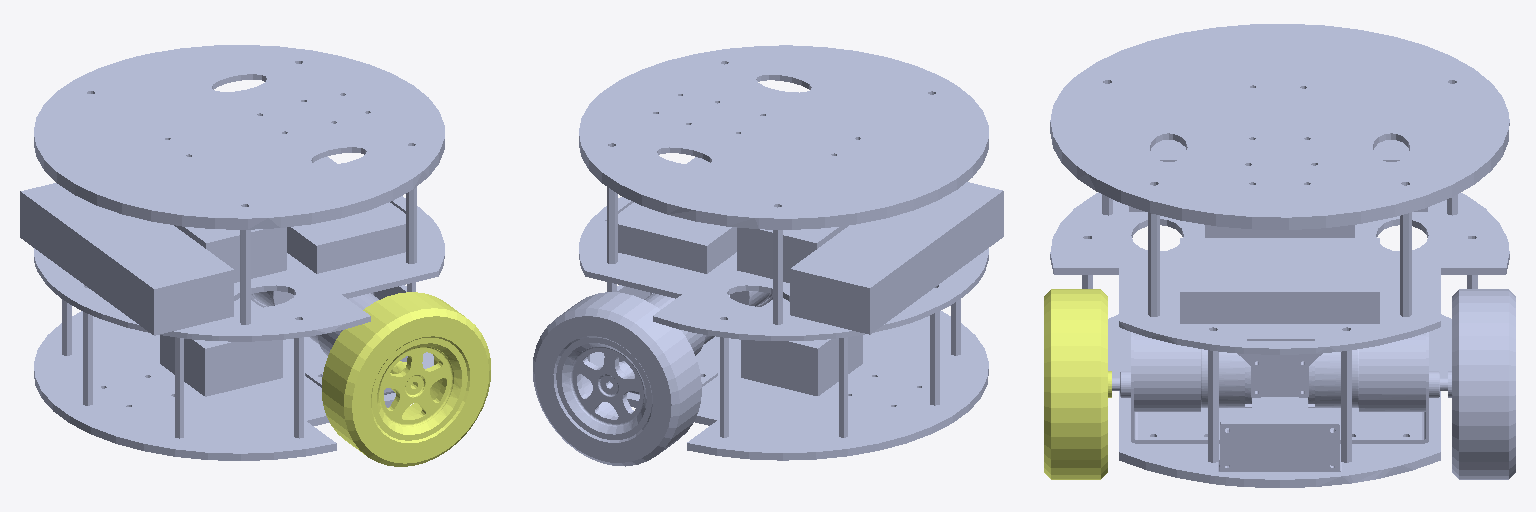
robot.urdf — KalHozMobile:
<?xml version="1.0" encoding="utf-8"?>
<!-- This URDF was automatically created by SolidWorks to URDF Exporter! Originally created by [author] ([email redacted]) 
     Commit Version: 1.6.0-4-g7f85cfe  Build Version: 1.6.7995.38578
     For more information, please see http://wiki.ros.org/sw_urdf_exporter -->
<robot
  name="KalHozMobile">
  <link
    name="base_link">
    <inertial>
      <origin
        xyz="-0.00859988347059087 -0.000134002469390632 0.0651144707354215"
        rpy="0 0 0" />
      <mass
        value="5.47335959213036" />
      <inertia
        ixx="0.00765025145241159"
        ixy="-2.52690429370982E-07"
        ixz="-1.51493490794792E-05"
        iyy="0.00721459652833044"
        iyz="-8.01039273224075E-08"
        izz="0.0145073067280245" />
    </inertial>
    <visual>
      <origin
        xyz="0 0 0"
        rpy="0 0 0" />
      <geometry>
        <mesh
          filename="package://KalHozMobile/meshes/base_link.STL" />
      </geometry>
      <material
        name="">
        <color
          rgba="0.792156862745098 0.819607843137255 0.933333333333333 1" />
      </material>
    </visual>
    <collision>
      <origin
        xyz="0 0 0"
        rpy="0 0 0" />
      <geometry>
        <mesh
          filename="package://KalHozMobile/meshes/base_link.STL" />
      </geometry>
    </collision>
  </link>
  <link
    name="left_wheel">
    <inertial>
      <origin
        xyz="1.6209E-12 -0.0074712 7.9354E-12"
        rpy="0 0 0" />
      <mass
        value="0.85535" />
      <inertia
        ixx="0.00049626"
        ixy="-1.5263E-15"
        ixz="-3.4023E-10"
        iyy="0.00089585"
        iyz="-5.7354E-16"
        izz="0.00049626" />
    </inertial>
    <visual>
      <origin
        xyz="0 0 0"
        rpy="0 0 0" />
      <geometry>
        <mesh
          filename="package://KalHozMobile/meshes/left_wheel.STL" />
      </geometry>
      <material
        name="">
        <color
          rgba="0.79216 0.81961 0.93333 1" />
      </material>
    </visual>
    <collision>
      <origin
        xyz="0 0 0"
        rpy="0 0 0" />
      <geometry>
        <mesh
          filename="package://KalHozMobile/meshes/left_wheel.STL" />
      </geometry>
    </collision>
  </link>
  <joint
    name="left_joint"
    type="revolute">
    <origin
      xyz="0.0425000000000001 0.0965430452616969 0.0230999999999996"
      rpy="0 0 0" />
    <parent
      link="base_link" />
    <child
      link="left_wheel" />
    <axis
      xyz="0 -1 0" />
    <limit
      lower="0"
      upper="0"
      effort="0"
      velocity="0" />
  </joint>
  <link
    name="right_wheel">
    <inertial>
      <origin
        xyz="-1.6206E-12 0.0074712 7.9353E-12"
        rpy="0 0 0" />
      <mass
        value="0.85535" />
      <inertia
        ixx="0.00049626"
        ixy="-1.5227E-15"
        ixz="3.4023E-10"
        iyy="0.00089585"
        iyz="5.7064E-16"
        izz="0.00049626" />
    </inertial>
    <visual>
      <origin
        xyz="0 0 0"
        rpy="0 0 0" />
      <geometry>
        <mesh
          filename="package://KalHozMobile/meshes/right_wheel.STL" />
      </geometry>
      <material
        name="">
        <color
          rgba="0.95294 1 0.52941 1" />
      </material>
    </visual>
    <collision>
      <origin
        xyz="0 0 0"
        rpy="0 0 0" />
      <geometry>
        <mesh
          filename="package://KalHozMobile/meshes/right_wheel.STL" />
      </geometry>
    </collision>
  </link>
  <joint
    name="right_joint"
    type="revolute">
    <origin
      xyz="0.0424999999999988 -0.0965430452616977 0.0231000000000003"
      rpy="0 0 0" />
    <parent
      link="base_link" />
    <child
      link="right_wheel" />
    <axis
      xyz="0 1 0" />
    <limit
      lower="0"
      upper="0"
      effort="0"
      velocity="0" />
  </joint>
  <link
    name="imu">
    <inertial>
      <origin
        xyz="0 -4.57498448847016E-12 0.00150000000000003"
        rpy="0 0 0" />
      <mass
        value="0.00702000000000001" />
      <inertia
        ixx="1.3689E-07"
        ixy="7.12667033401571E-22"
        ixz="5.55089940782906E-24"
        iyy="2.39265E-07"
        iyz="4.64851093218701E-22"
        izz="3.65625E-07" />
    </inertial>
    <visual>
      <origin
        xyz="0 0 0"
        rpy="0 0 0" />
      <geometry>
        <mesh
          filename="package://KalHozMobile/meshes/imu.STL" />
      </geometry>
      <material
        name="">
        <color
          rgba="0.792156862745098 0.819607843137255 0.933333333333333 1" />
      </material>
    </visual>
    <collision>
      <origin
        xyz="0 0 0"
        rpy="0 0 0" />
      <geometry>
        <mesh
          filename="package://KalHozMobile/meshes/imu.STL" />
      </geometry>
    </collision>
  </link>
  <joint
    name="imu_j"
    type="fixed">
    <origin
      xyz="-0.00324837868812255 0.000128905720000022 0.124"
      rpy="0 0 0" />
    <parent
      link="base_link" />
    <child
      link="imu" />
    <axis
      xyz="0 0 0" />
  </joint>
  <link
    name="lidar">
    <inertial>
      <origin
        xyz="-0.011696 0.0010152 -0.02425"
        rpy="0 0 0" />
      <mass
        value="0.094104" />
      <inertia
        ixx="2.7909E-05"
        ixy="-5.2518E-08"
        ixz="3.3534E-07"
        iyy="4.4353E-05"
        iyz="-2.4873E-08"
        izz="6.9475E-05" />
    </inertial>
    <visual>
      <origin
        xyz="0 0 0"
        rpy="0 0 0" />
      <geometry>
        <mesh
          filename="package://KalHozMobile/meshes/lidar.STL" />
      </geometry>
      <material
        name="">
        <color
          rgba="1 1 1 1" />
      </material>
    </visual>
    <collision>
      <origin
        xyz="0 0 0"
        rpy="0 0 0" />
      <geometry>
        <mesh
          filename="package://KalHozMobile/meshes/lidar.STL" />
      </geometry>
    </collision>
  </link>
  <joint
    name="lidar_j"
    type="fixed">
    <origin
      xyz="0.015 -0.00250000000000011 0.18138"
      rpy="0 0 0" />
    <parent
      link="base_link" />
    <child
      link="lidar" />
    <axis
      xyz="0 0 0" />
  </joint>
</robot>

--- Render facts (derived) ---
3 views of the same robot in one strip: view 1: azimuth 30°, elevation 25°; view 2: azimuth 150°, elevation 25°; view 3: azimuth 270°, elevation 25° (orthographic).
Robot: KalHozMobile — 5 links, 4 joints (2 revolute, 2 fixed); root link base_link; default pose: every joint at zero.
Links seen in each view (by area): view 1: base_link, right_wheel; view 2: base_link, left_wheel; view 3: base_link, left_wheel, right_wheel.
Link boxes in pixels (bbox=[...]): base_link: bbox=[20, 45, 444, 460]; right_wheel: bbox=[322, 292, 490, 466]; base_link: bbox=[579, 45, 1003, 460]; left_wheel: bbox=[533, 292, 701, 466]; base_link: bbox=[1050, 24, 1509, 487]; left_wheel: bbox=[1448, 289, 1515, 479]; right_wheel: bbox=[1044, 289, 1111, 479].
Bounding box of the posed robot: 0.2 × 0.2051 × 0.1484 m (x, y, z).
4 mesh visuals loaded from 5 distinct referenced files (4 binary STL); not drawn: 1 (reference not matched to a file when rendering).